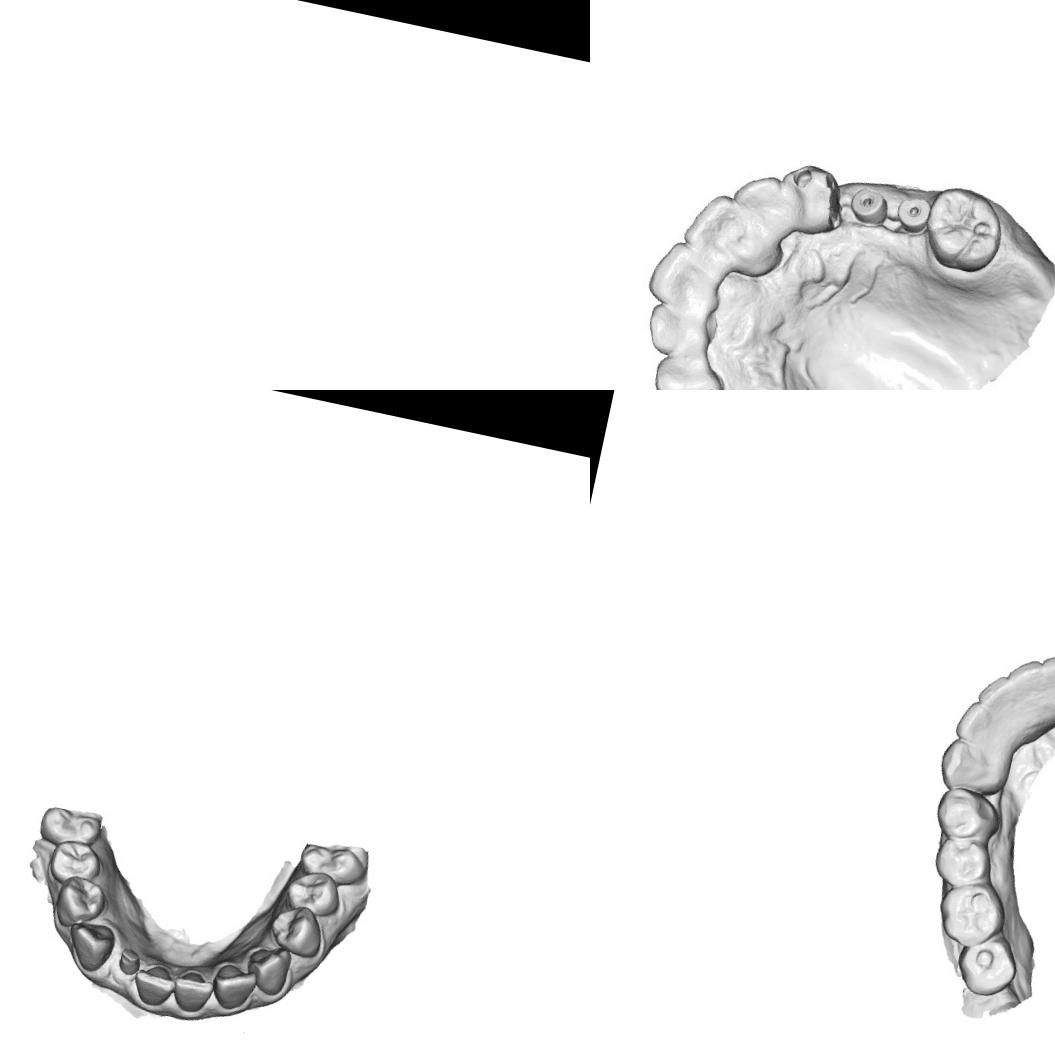abutment: (113, 942, 146, 981)
canine: (768, 157, 848, 240), (934, 735, 1014, 801), (60, 916, 121, 977), (239, 939, 297, 1001), (645, 350, 727, 390)
implant: (846, 180, 891, 229), (892, 193, 934, 236)
incisor: (643, 234, 724, 314), (679, 185, 756, 263), (642, 294, 720, 360), (726, 166, 791, 230), (124, 951, 185, 1017), (206, 958, 263, 1016), (165, 962, 218, 1018), (951, 696, 996, 746), (1002, 654, 1046, 705), (973, 671, 1014, 718), (1035, 647, 1055, 703)
molar: (918, 182, 1009, 278), (932, 873, 1012, 954), (951, 926, 1024, 1002), (295, 834, 375, 890), (36, 799, 108, 854)
premolar: (930, 782, 1006, 848), (261, 897, 330, 963), (48, 870, 111, 936), (43, 833, 109, 895), (929, 834, 995, 894), (281, 865, 348, 922)
